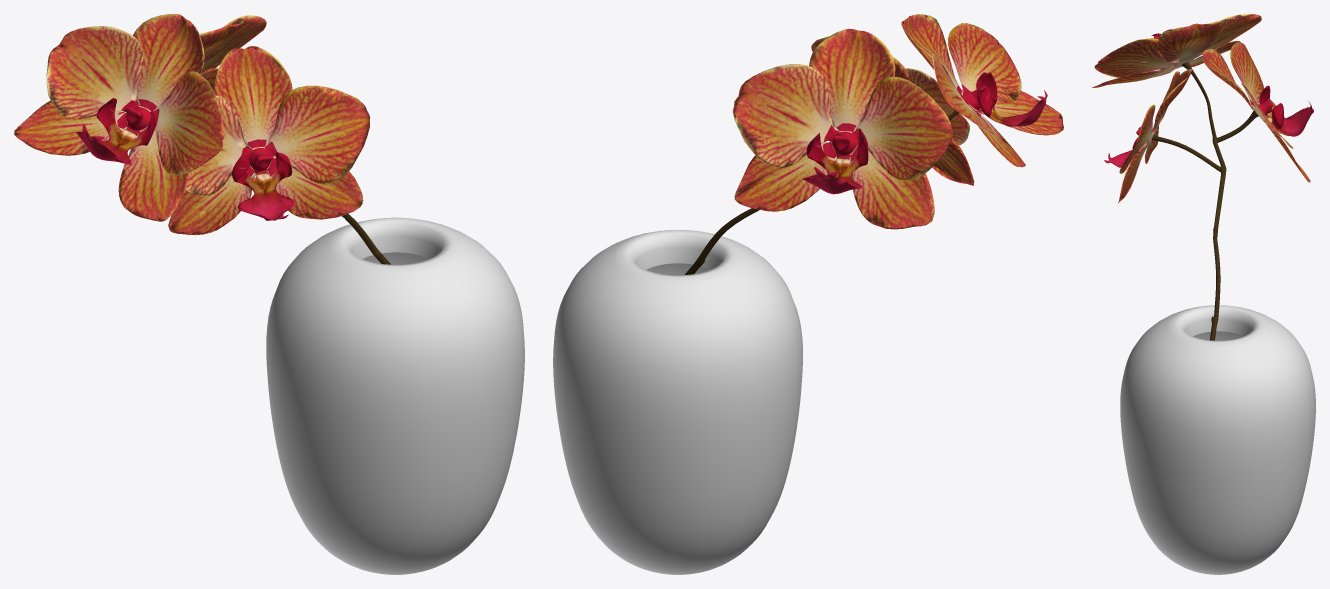
Rendered from Vase 4.FBX.
3 views of the same model, side by side, from view 1: azimuth 30°, elevation 25°; view 2: azimuth 150°, elevation 25°; view 3: azimuth 270°, elevation 25° (orthographic). The views are drawn at different scales.
Parts seen in each view (by area): view 1: Vase 4; view 2: Vase 4; view 3: Vase 4.
Boxes of the visible parts, x1,y1,x2,y2 form: Vase 4: (14,14,524,574); Vase 4: (553,14,1063,574); Vase 4: (1092,14,1315,574).
Size of the model in its own units: 19.31 by 10.31 by 23.19.
